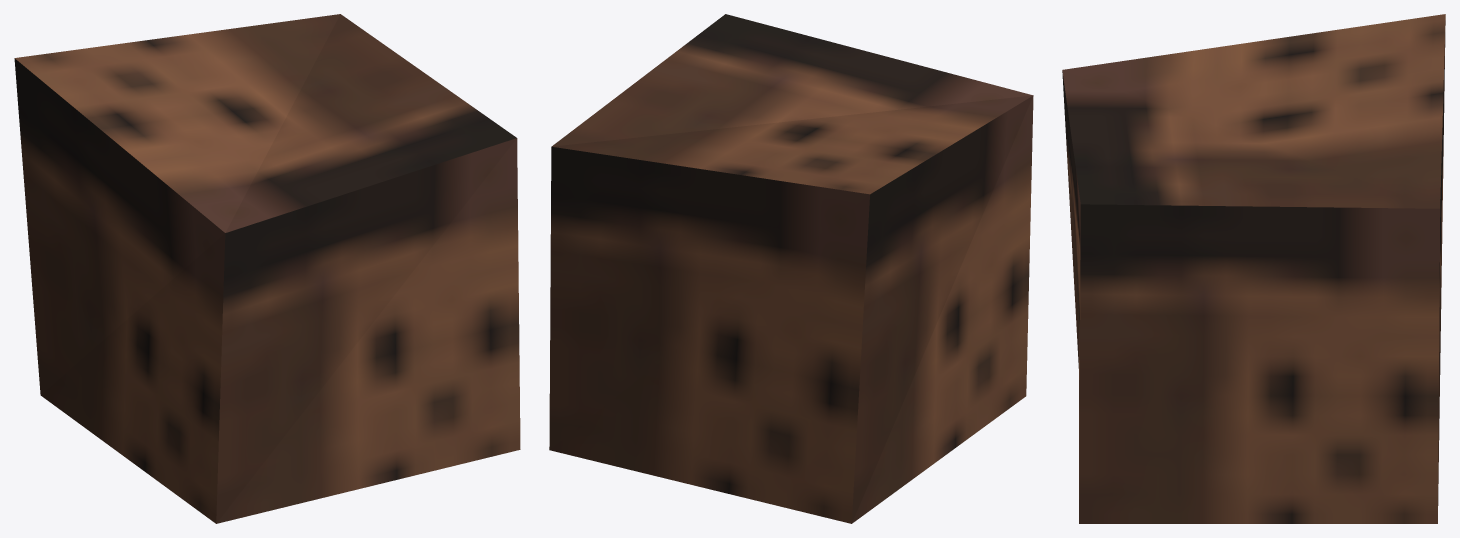
The model's file is SM_DiceBox.fbx.
3 renders of one model, left to right at view 1: azimuth 30°, elevation 25°; view 2: azimuth 150°, elevation 25°; view 3: azimuth 270°, elevation 25°, orthographic. The views are drawn at different scales.
Parts seen in each view (by area): view 1: DiceBox_Visual; view 2: DiceBox_Visual; view 3: DiceBox_Visual.
Part boxes in pixels (<box>): DiceBox_Visual: <box>14,14,520,523</box>; DiceBox_Visual: <box>549,14,1033,523</box>; DiceBox_Visual: <box>1062,14,1445,523</box>.
Bounding box in the file's own units: 0.0912 × 0.0907 × 0.0908.
